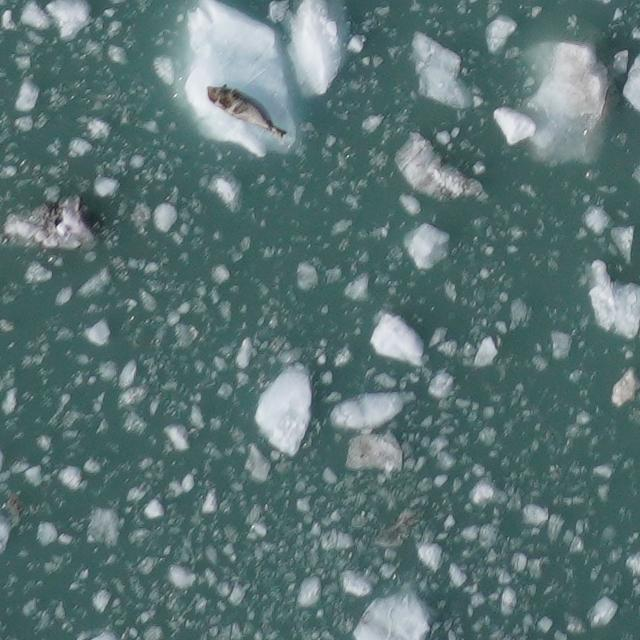seal: (201, 79, 292, 144)
